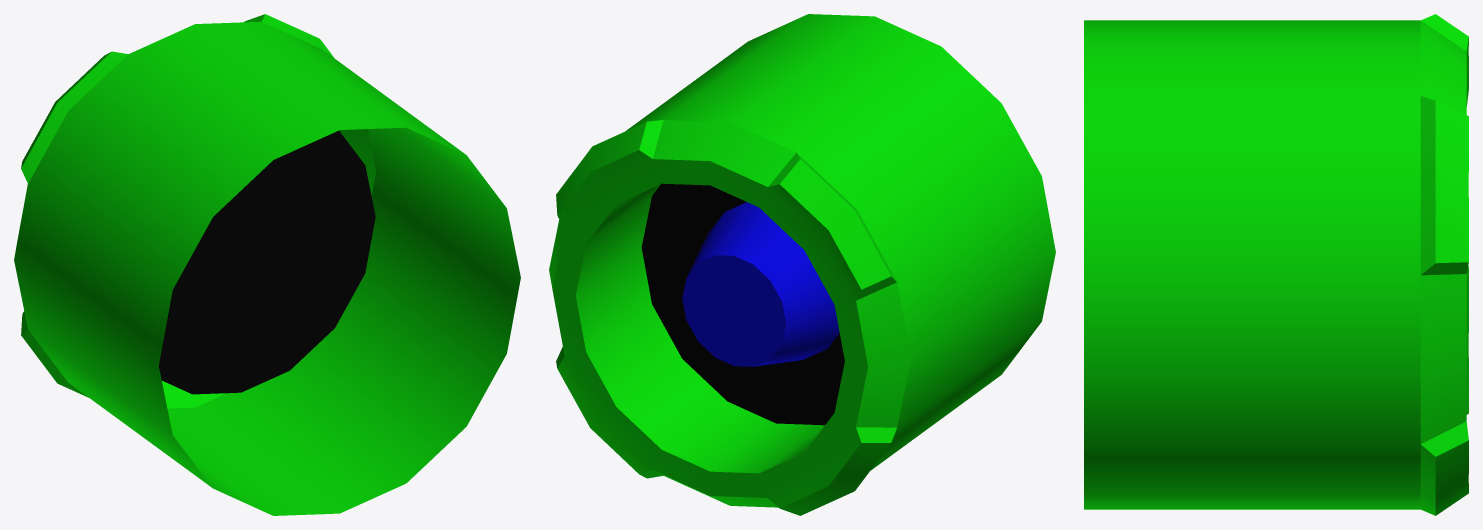
The model's file is ReactorBot_LVL2.FBX.
3 views of the same model, side by side, from view 1: azimuth 30°, elevation 25°; view 2: azimuth 150°, elevation 25°; view 3: azimuth 270°, elevation 25° (orthographic). The views are drawn at different scales.
Parts seen in each view (by area): view 1: ReactorBot_LVL2; view 2: ReactorBot_LVL2; view 3: ReactorBot_LVL2.
Boxes of the visible parts, x1,y1,x2,y2 form: ReactorBot_LVL2: (14,14,520,515); ReactorBot_LVL2: (549,14,1055,515); ReactorBot_LVL2: (1084,14,1468,515).
Bounding box in the file's own units: 31.78 × 32.15 × 25.15.
